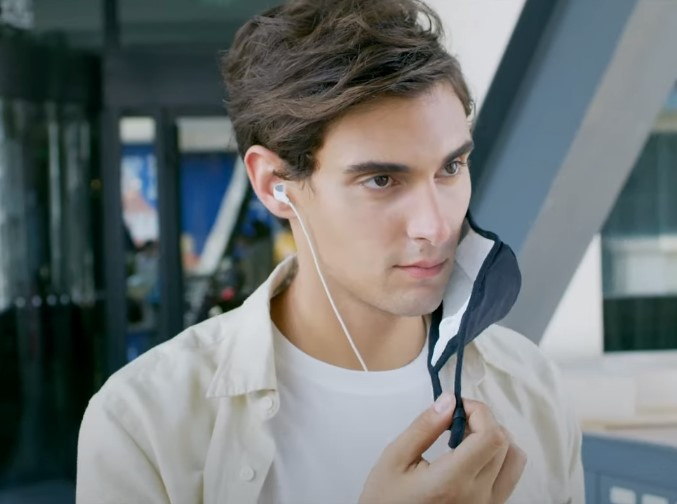face_with_mask: (230, 2, 524, 377)
